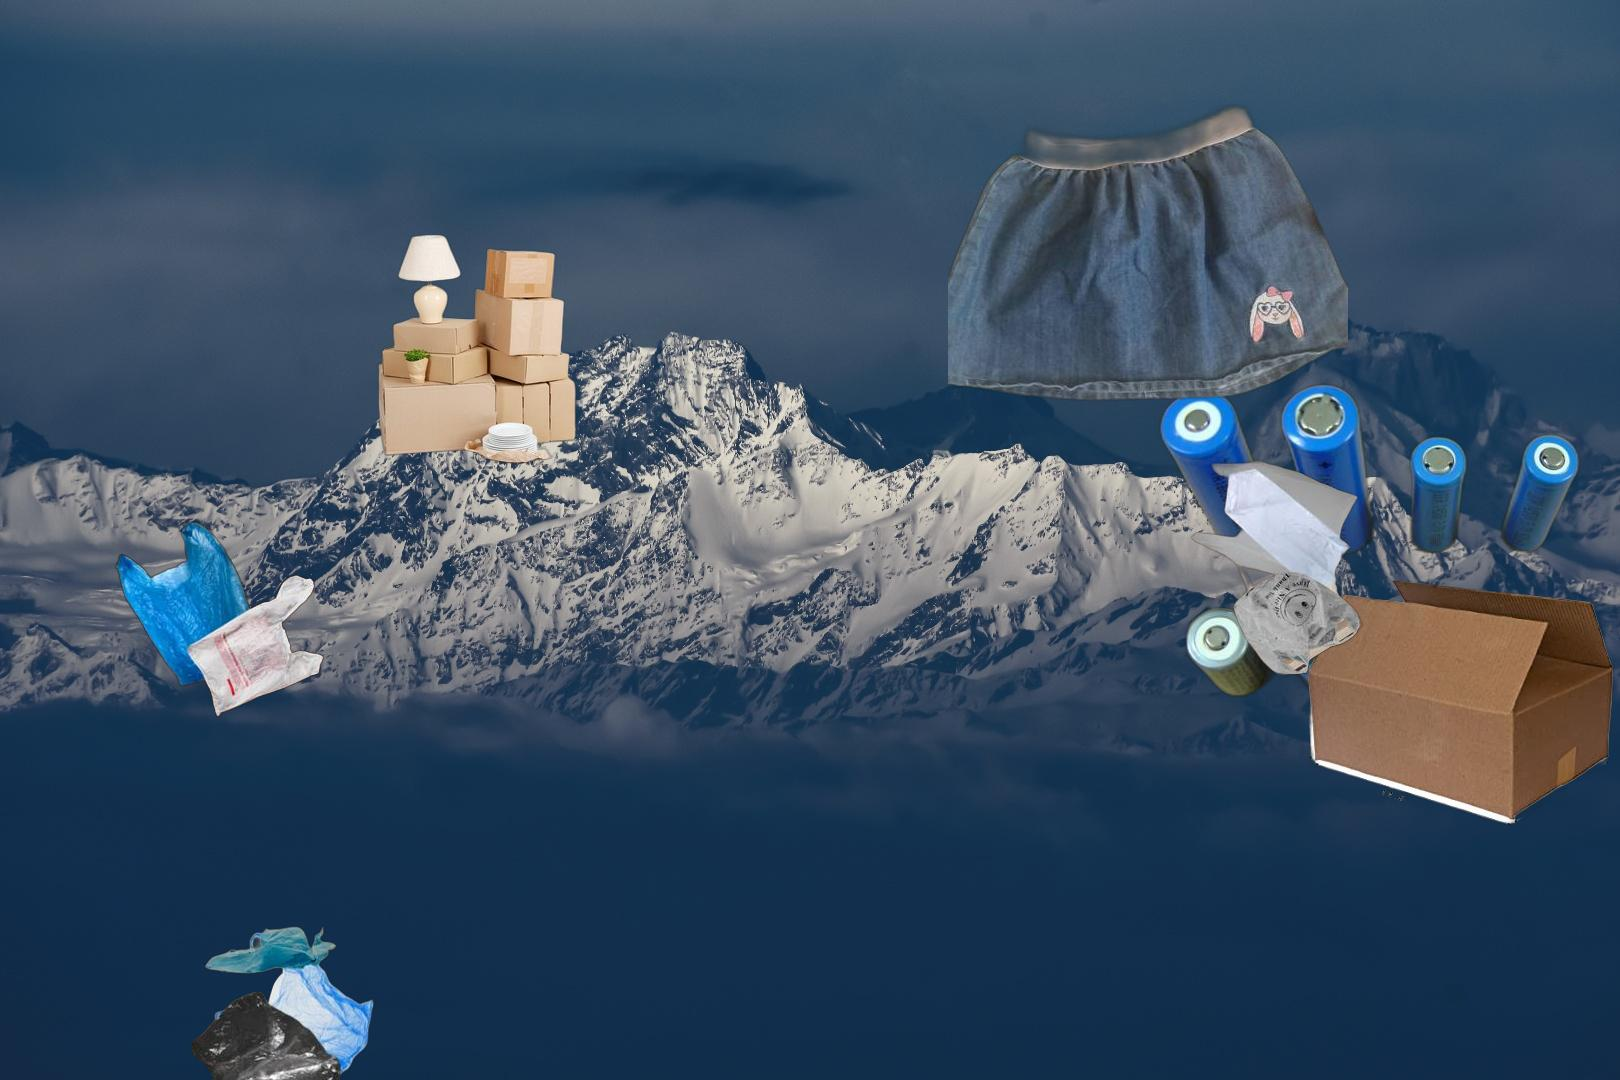battery: (1154, 380, 1596, 771)
clothes: (947, 27, 1348, 404)
plastic-bag: (1188, 386, 1367, 680), (115, 520, 325, 720), (188, 923, 376, 1080)
trashbox-cardboard: (1301, 579, 1615, 826), (376, 233, 580, 466)
